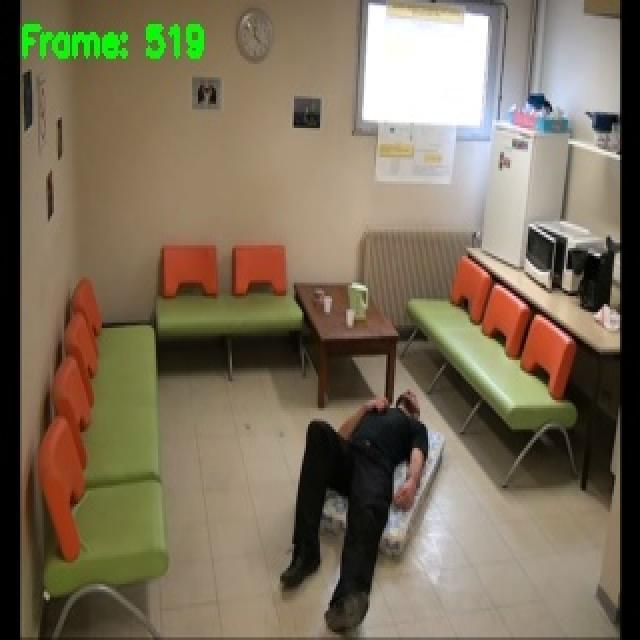fall: (284, 388, 430, 634)
